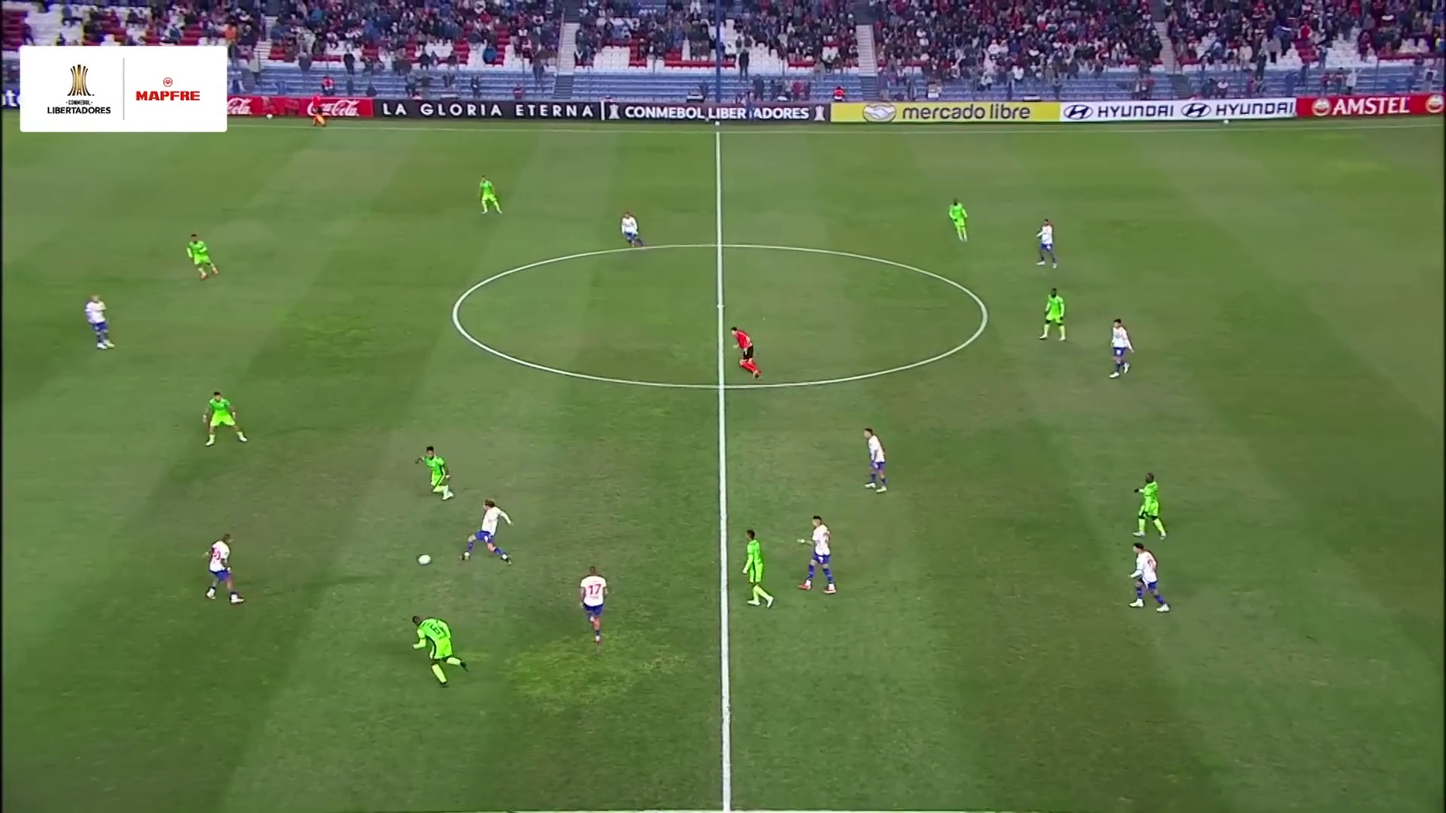ball: (416, 552, 432, 566)
player: (407, 612, 472, 688), (458, 498, 515, 567), (200, 532, 249, 607), (795, 514, 839, 596), (1125, 541, 1173, 614), (739, 528, 777, 611), (575, 564, 613, 646), (199, 390, 249, 449), (1129, 470, 1170, 541), (413, 445, 458, 500), (859, 425, 892, 493), (81, 293, 119, 352), (184, 232, 222, 281), (1106, 318, 1136, 380), (1038, 286, 1069, 343), (1034, 217, 1060, 270), (617, 210, 648, 251), (476, 175, 504, 216), (948, 199, 971, 243)
referee: (728, 325, 765, 381), (309, 91, 329, 130)
